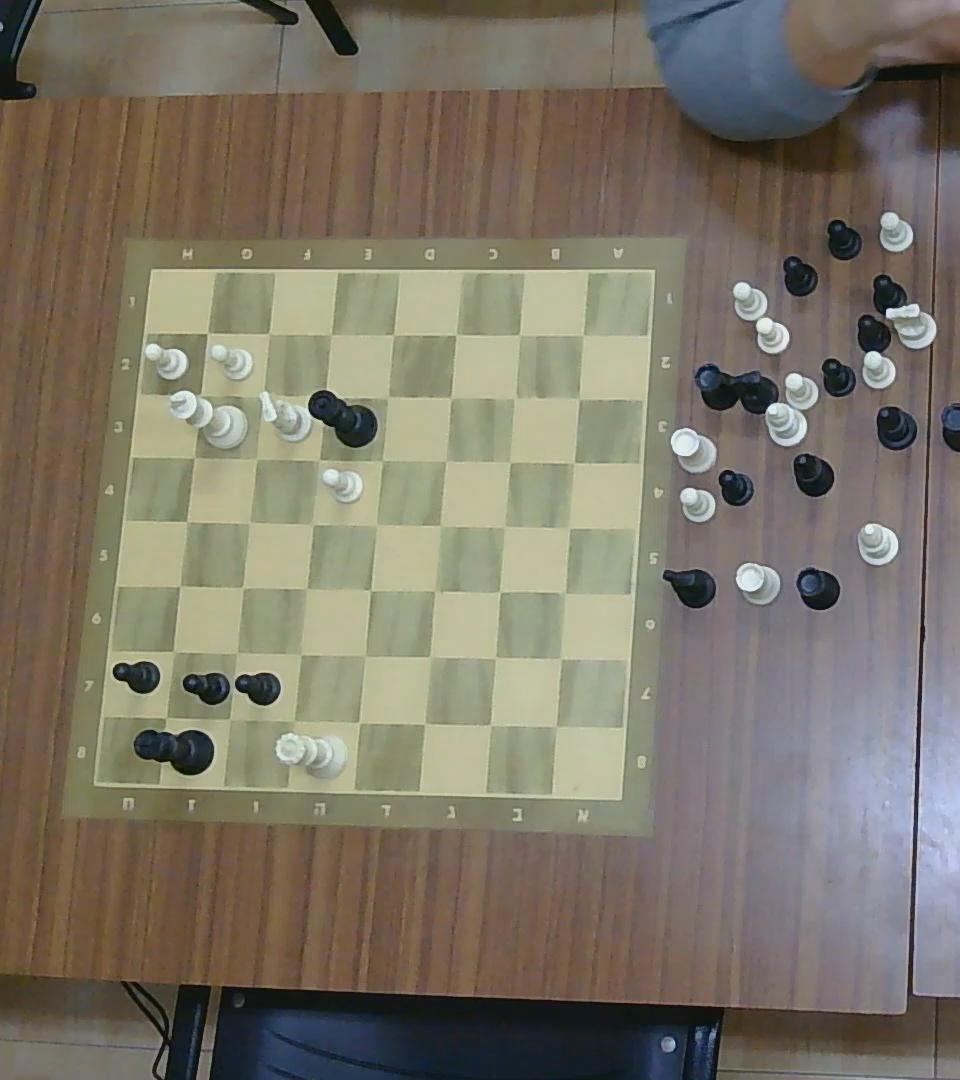xcorner: (477, 712, 503, 738), (543, 714, 569, 739), (412, 711, 437, 736), (247, 382, 272, 407), (418, 645, 442, 670), (281, 708, 305, 732), (347, 710, 371, 734), (482, 646, 506, 669), (353, 644, 376, 668), (288, 642, 311, 666), (154, 705, 178, 728), (549, 647, 571, 669), (319, 323, 341, 345), (439, 387, 461, 408), (225, 642, 246, 664), (423, 579, 444, 601), (218, 708, 240, 729), (188, 384, 210, 405), (372, 449, 392, 471), (429, 514, 449, 535), (559, 517, 579, 538), (170, 576, 190, 597), (183, 447, 203, 467), (366, 514, 386, 534), (489, 582, 509, 602), (555, 582, 575, 602), (378, 387, 397, 408), (296, 578, 315, 599), (309, 448, 328, 469), (435, 450, 454, 470), (361, 580, 380, 600), (446, 325, 465, 345), (260, 324, 279, 344), (177, 511, 196, 531), (165, 641, 184, 661), (234, 577, 253, 597), (384, 325, 403, 345), (315, 386, 334, 406), (240, 513, 259, 532), (500, 451, 519, 470), (303, 514, 321, 534), (495, 516, 513, 536), (248, 449, 266, 468), (198, 323, 217, 341), (564, 453, 583, 471), (511, 326, 529, 344), (573, 326, 591, 344), (505, 389, 523, 406), (572, 390, 588, 405)
